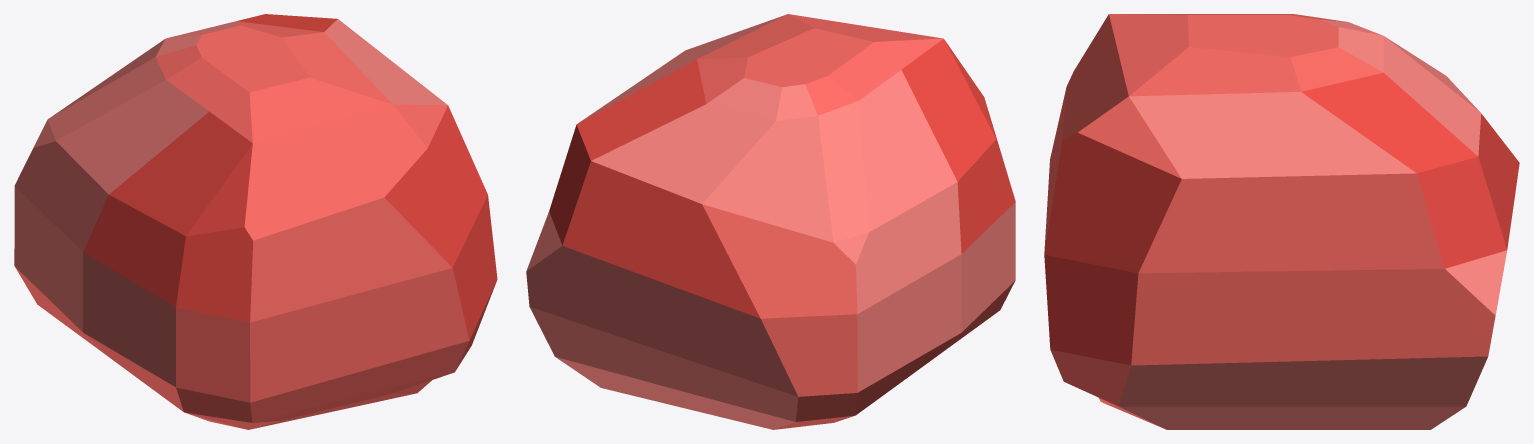
The model's file is Meat.fbx.
The picture shows the model from 3 angles, left to right: view 1: azimuth 30°, elevation 25°; view 2: azimuth 150°, elevation 25°; view 3: azimuth 270°, elevation 25°; orthographic projection. The views are drawn at different scales.
Parts seen in each view (by area): view 1: Cube; view 2: Cube; view 3: Cube.
Boxes of the visible parts, x1,y1,x2,y2 form: Cube: (14, 14, 497, 429); Cube: (526, 14, 1015, 429); Cube: (1044, 14, 1519, 429).
Size of the model in its own units: 19.77 by 16.76 by 21.93.
